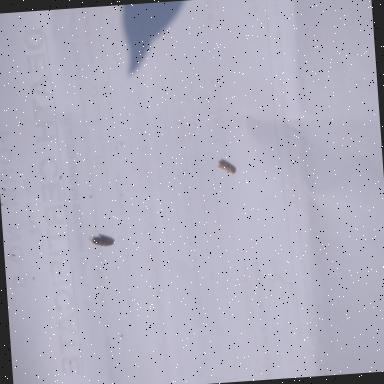pbw: (216, 158, 236, 174), (89, 234, 112, 246)
